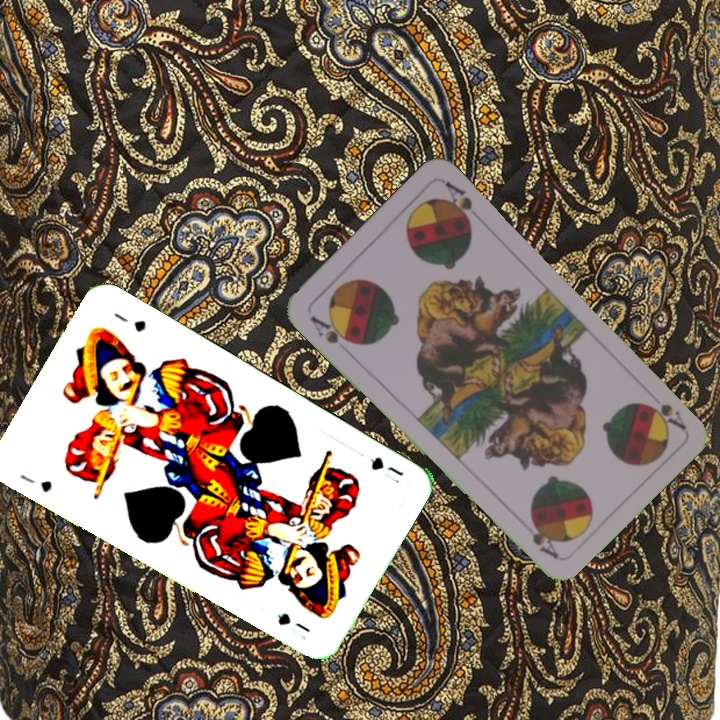GU: (366, 452, 406, 487), (15, 470, 55, 496)
SA: (306, 311, 359, 348), (644, 399, 688, 433)
